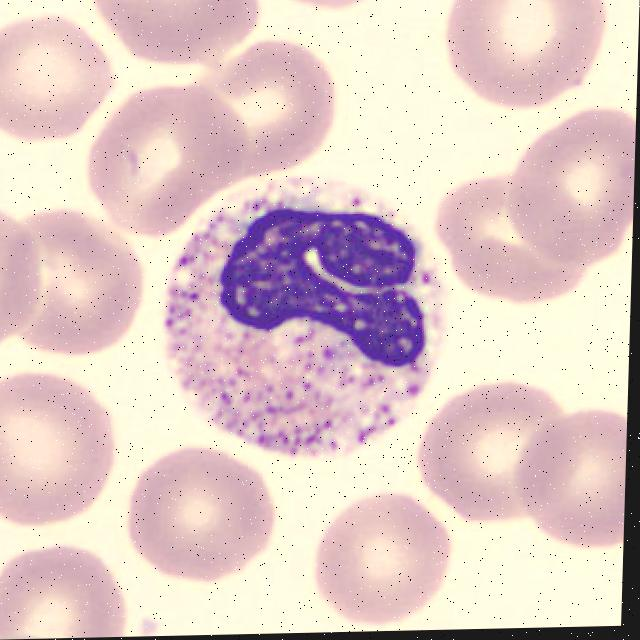neutrophil: (161, 173, 448, 463)
rbc: (422, 165, 598, 320), (93, 74, 252, 241), (303, 474, 460, 633), (2, 199, 142, 371), (131, 429, 273, 596), (407, 382, 578, 520), (440, 0, 625, 127), (0, 364, 130, 537), (503, 112, 636, 268), (190, 47, 343, 182), (514, 411, 627, 578), (0, 7, 108, 146), (100, 0, 256, 85), (0, 543, 136, 640), (0, 191, 52, 354), (263, 0, 393, 18), (0, 629, 88, 640)
